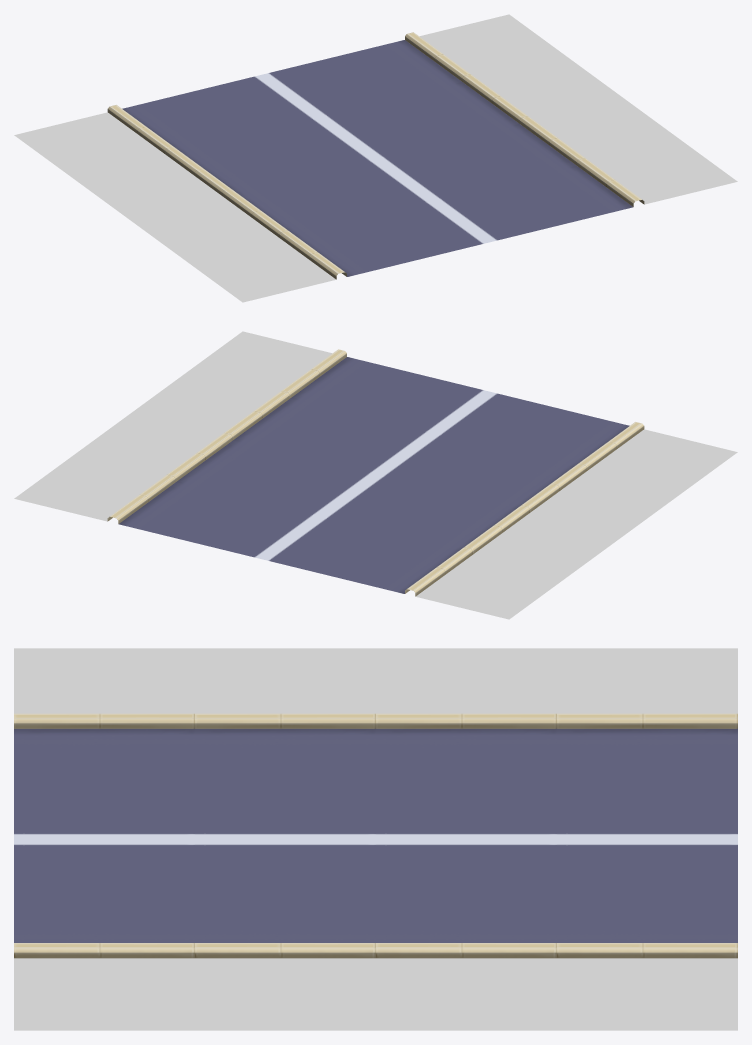
File: road_straight.fbx
3 renders of one model, top to bottom at view 1: azimuth 30°, elevation 25°; view 2: azimuth 150°, elevation 25°; view 3: azimuth 270°, elevation 25°, orthographic. The views are drawn at different scales.
Visible parts, largest first — view 1: Plane; view 2: Plane; view 3: Plane.
Boxes of the visible parts, x1,y1,x2,y2 form: Plane: [14, 14, 737, 302]; Plane: [14, 331, 737, 619]; Plane: [14, 648, 737, 1030].
Size of the model in its own units: 1000 by 10.4 by 800.
